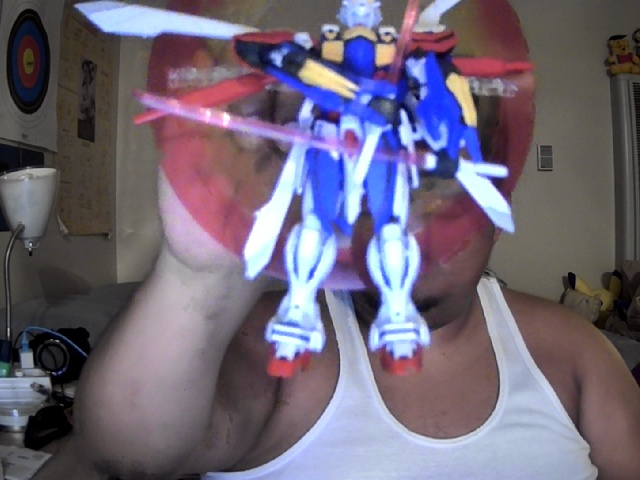God: (72, 2, 538, 381)
